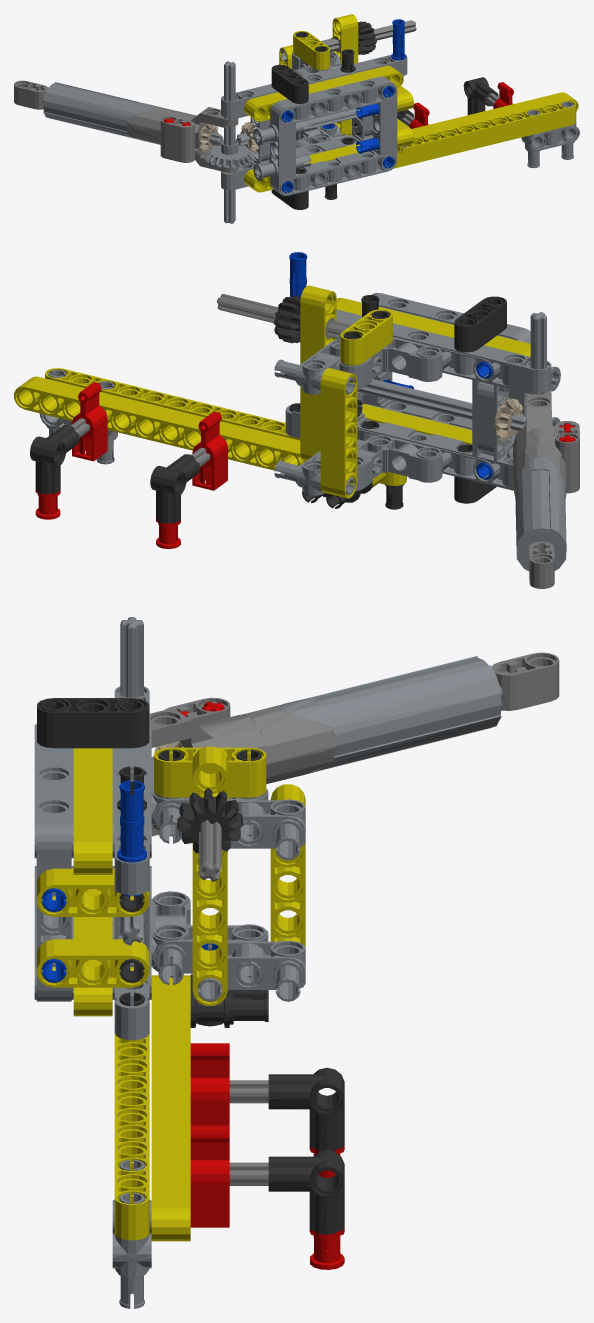
The model's file is Body1.fbx.
3 renders of one model, top to bottom at view 1: azimuth 30°, elevation 25°; view 2: azimuth 150°, elevation 25°; view 3: azimuth 270°, elevation 25°, orthographic. The views are drawn at different scales.
Parts seen in each view (by area): view 1: Body1; view 2: Body1; view 3: Body1.
Boxes of the visible parts, x1,y1,x2,y2 form: Body1: (14, 14, 579, 223); Body1: (14, 252, 579, 588); Body1: (34, 617, 559, 1308).
Bounding box in the file's own units: 22.07 × 8 × 10.76.
